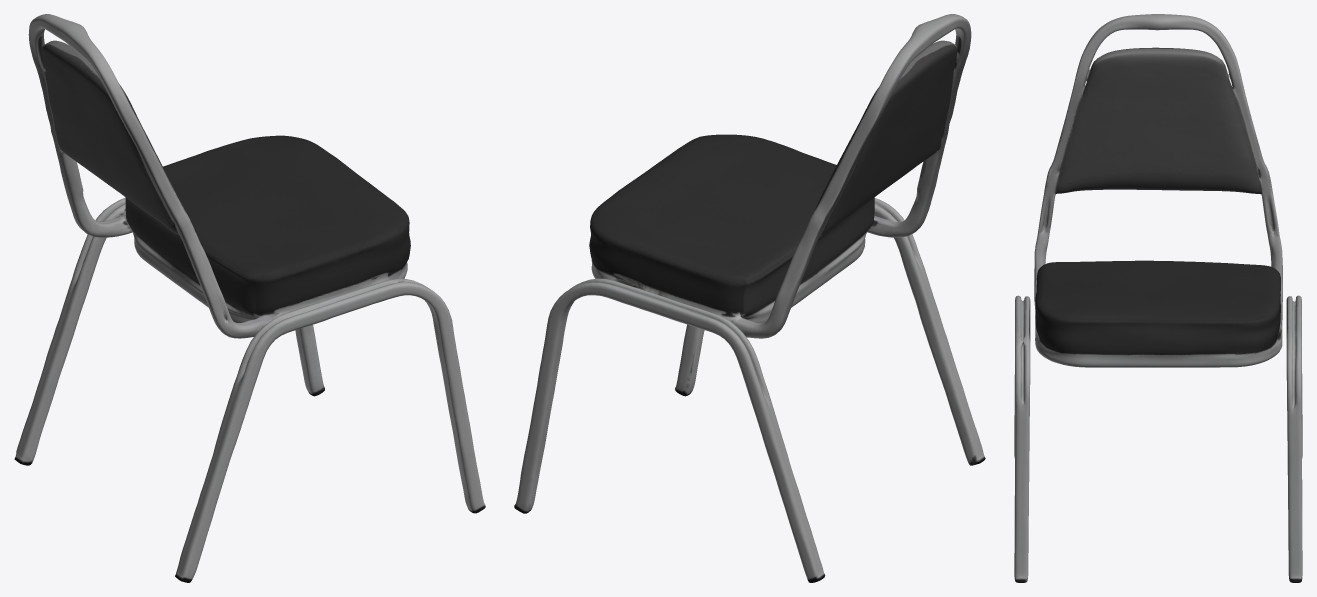
The picture shows the model from 3 angles, left to right: view 1: azimuth 30°, elevation 25°; view 2: azimuth 150°, elevation 25°; view 3: azimuth 270°, elevation 25°; orthographic projection. The views are drawn at different scales.
Visible parts, largest first — view 1: tripo_node_b2cb4fa1-d72b-4c70-b41b-13760a40f488; view 2: tripo_node_b2cb4fa1-d72b-4c70-b41b-13760a40f488; view 3: tripo_node_b2cb4fa1-d72b-4c70-b41b-13760a40f488.
Part boxes in pixels (x1,y1,x2,y2): tripo_node_b2cb4fa1-d72b-4c70-b41b-13760a40f488: (14,14,485,582); tripo_node_b2cb4fa1-d72b-4c70-b41b-13760a40f488: (514,14,985,582); tripo_node_b2cb4fa1-d72b-4c70-b41b-13760a40f488: (1014,14,1302,582).
Size of the model in its own units: 0.703 by 0.999 by 0.604.
1 material, 1 textured.
